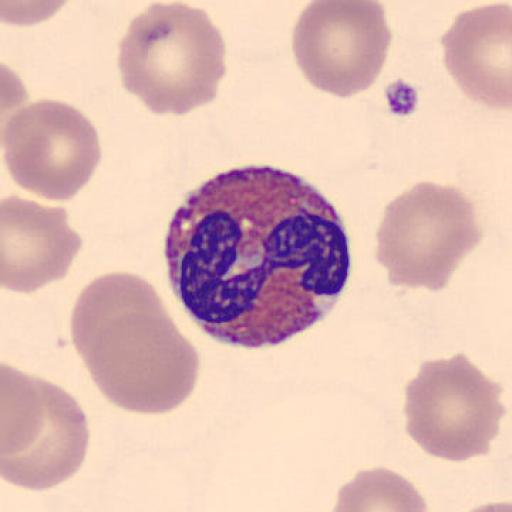RBC: (116, 1, 228, 116), (80, 310, 200, 416), (374, 180, 482, 294), (401, 351, 505, 463), (1, 370, 91, 492), (2, 96, 102, 202), (291, 0, 393, 100), (70, 270, 172, 370), (1, 194, 84, 294), (441, 2, 512, 111), (328, 465, 430, 512), (1, 361, 42, 460), (1, 60, 29, 146), (2, 0, 75, 27), (2, 60, 28, 115), (452, 499, 512, 512)
WBC: (163, 160, 353, 349)
